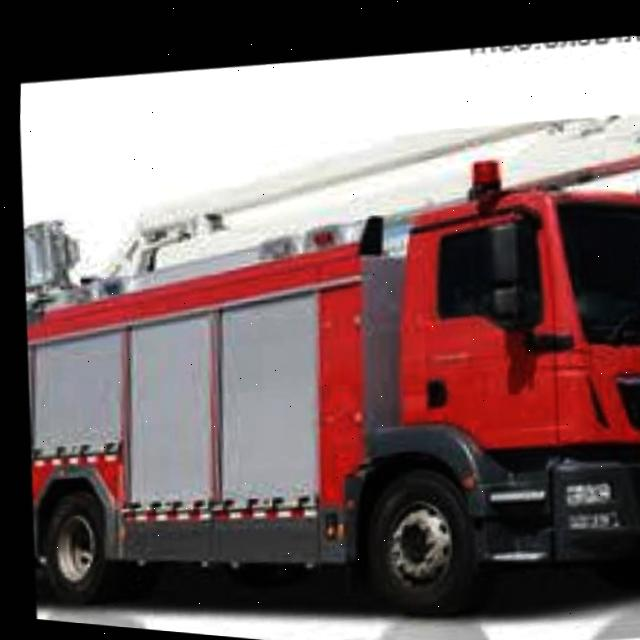emergency: (5, 132, 640, 640)
